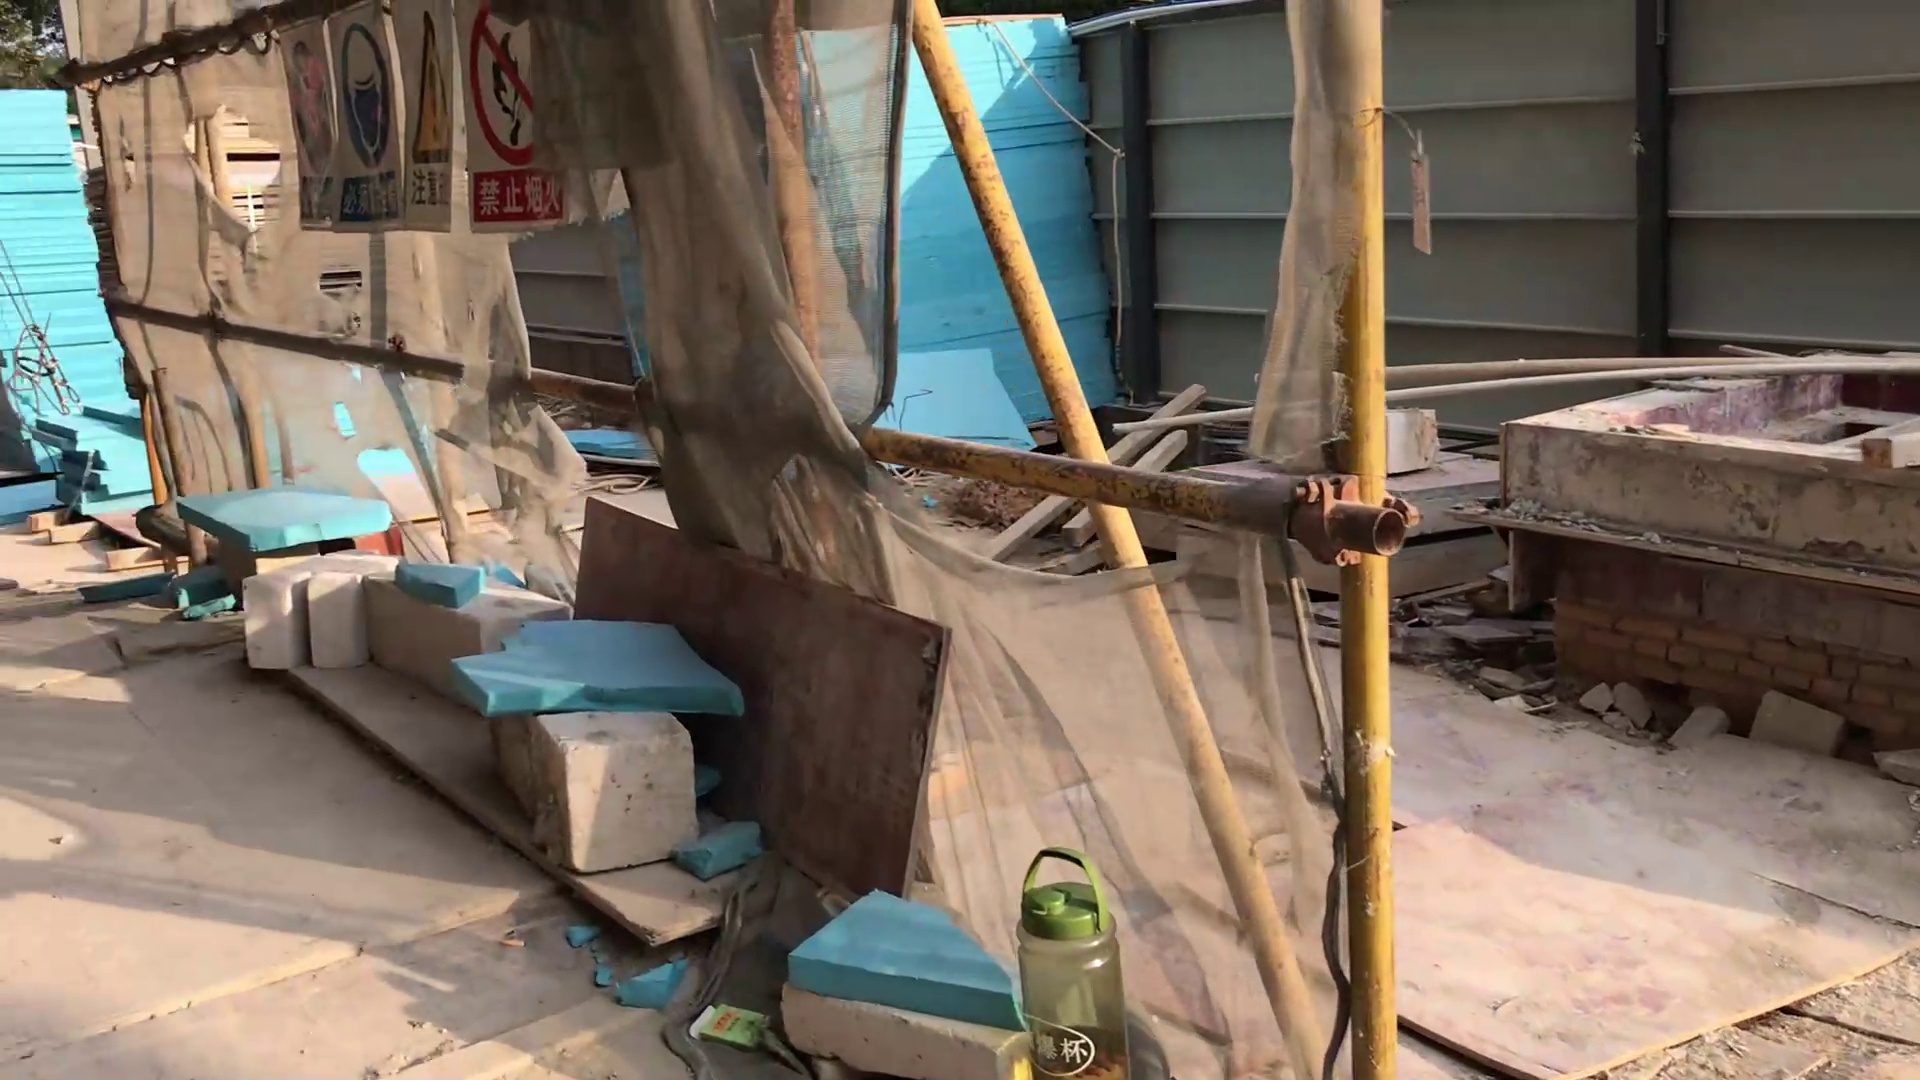slogan: (291, 1, 562, 229)
